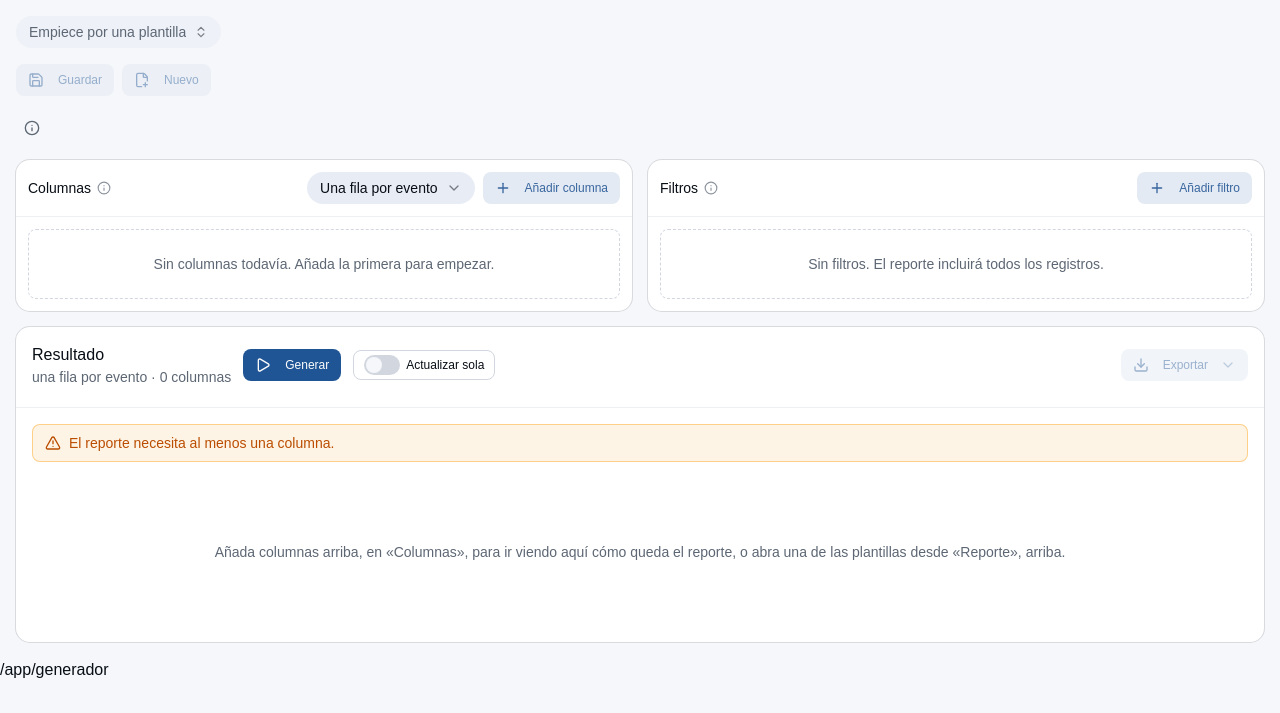
Scenario: running a report › asks how many rows there are without asking for the rows
Expected: the button "Generar" is shown, [243,349,341,381]
Click the button "Añadir columna" at (551, 188), box [483,172,620,204]
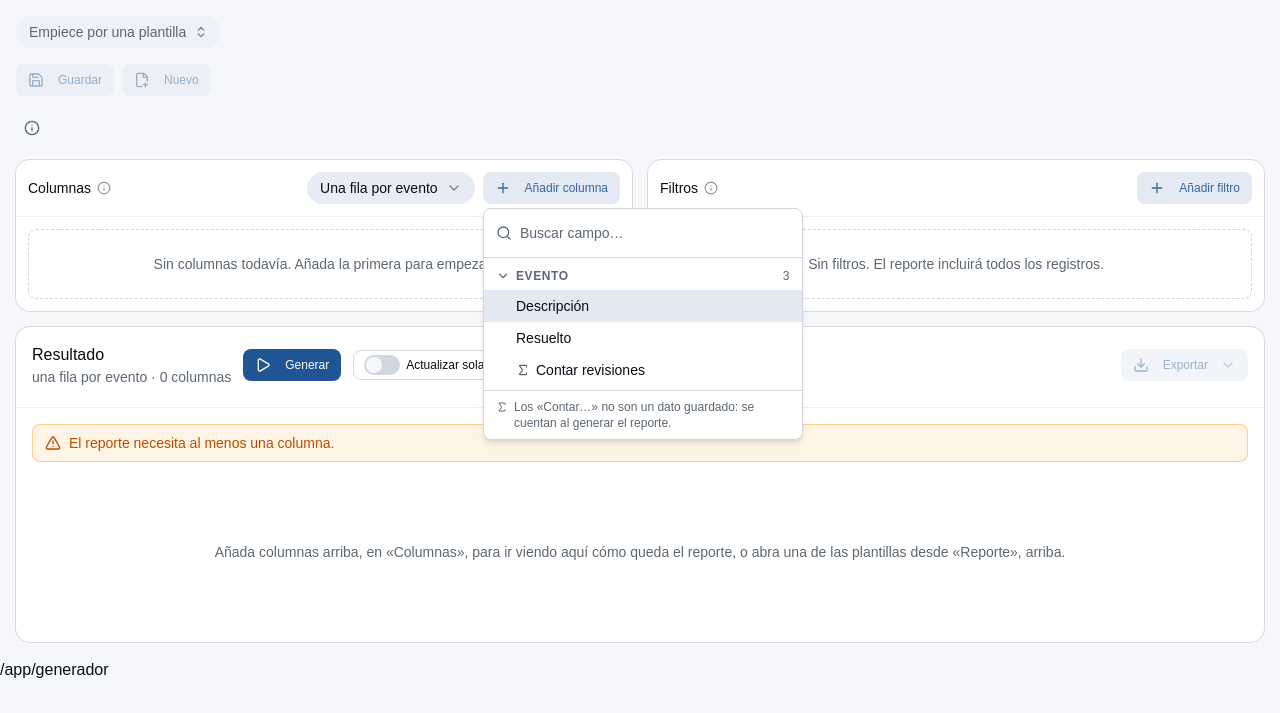
Click the option "Descripción" at (553, 306), box [484,290,802,322]
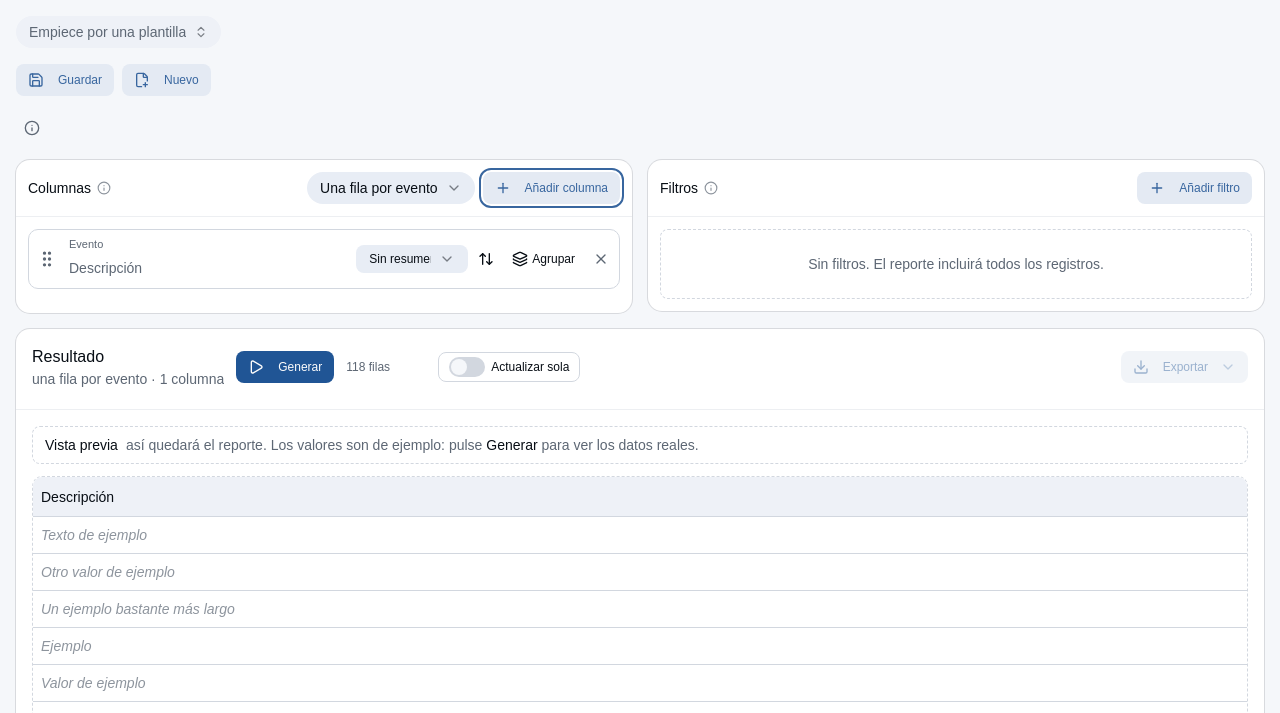
Result: the text "118 filas" is shown at [346,360,390,374]
